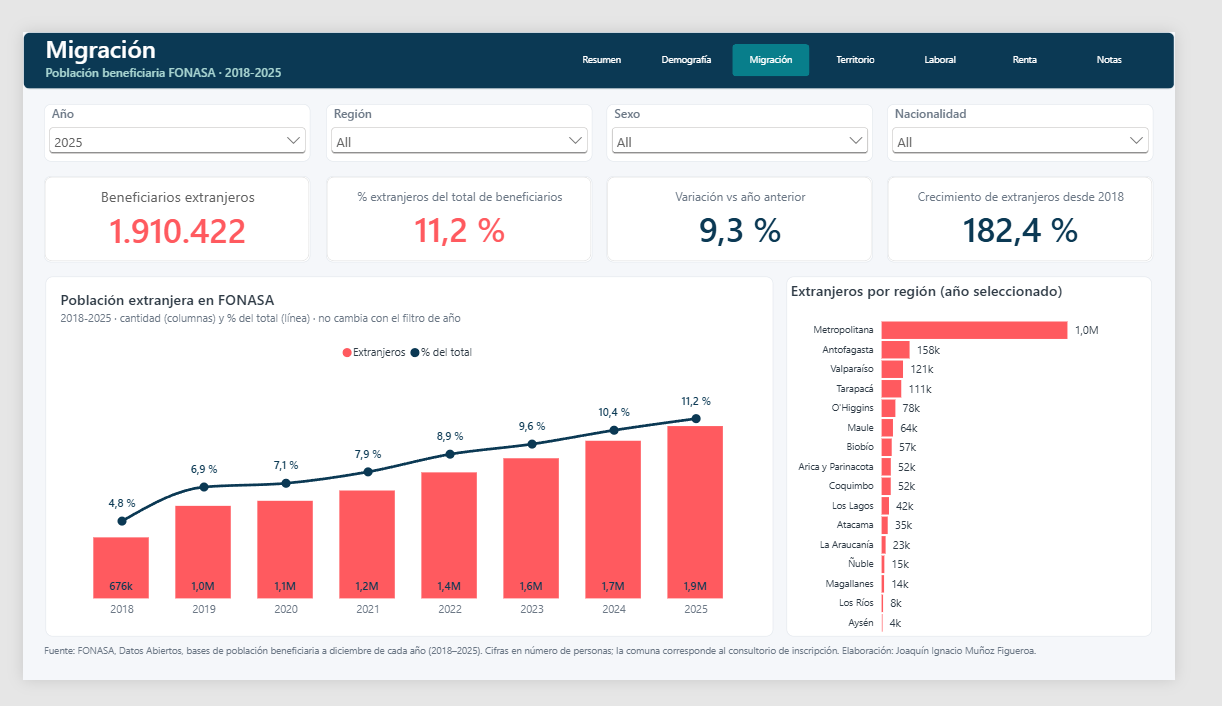

The dashboard page shown, as its layout file describes it:
{"tool":"powerbi","page":{"name":"Migración","canvas":[1280,720],"ordinal":2},"visuals":[{"type":"shape","box":[0,0,1280,64],"z":0},{"type":"textbox","title":"Resumen","box":[24.6,0,559.4,64.3],"z":1000},{"type":"pageNavigator","box":[600,14,656,36],"z":2000},{"type":"textbox","title":"Fuente: FONASA, Datos Abiertos, bases de población beneficiaria a diciembre de cada año (2018-2025). Nacionalidad según registro de FONASA; región del consultorio de inscripción. Elaboración: Joaquín ","box":[24,680,1232,28],"z":3000},{"type":"slicer","fields":{"Values":["Fonasa.anio"]},"box":[24,80,296,64],"z":4000},{"type":"slicer","fields":{"Values":["Fonasa.Región"]},"box":[336,80,296,64],"z":5000},{"type":"slicer","fields":{"Values":["Fonasa.sexo"]},"box":[648,80,296,64],"z":6000},{"type":"slicer","fields":{"Values":["Fonasa.nacionalidad"]},"box":[960,80,296,64],"z":7000},{"type":"cardVisual","fields":{"Data":["Measures Table (DAX).Beneficiarios_Extranjeros"]},"box":[24,160,296,96],"z":8000},{"type":"cardVisual","fields":{"Data":["Measures Table (DAX).%_Beneficiarios_Extranjeros"]},"box":[336,160,296,96],"z":9000},{"type":"cardVisual","fields":{"Data":["Measures Table (DAX).%_Variación_Extranjeros"]},"box":[648,160,296,96],"z":10000},{"type":"cardVisual","fields":{"Data":["Measures Table (DAX).Crecimiento_%_Extranjeros_Desde_2018"]},"box":[960,160,296,96],"z":11000},{"type":"lineClusteredColumnComboChart","title":"Población extranjera en FONASA","fields":{"Category":["Fonasa.anio"],"Y":["Measures Table (DAX).Extranjeros (gráfico)"],"Y2":["Measures Table (DAX).%_Beneficiarios_Extranjeros"]},"box":[24.2,272,808.6,400],"z":12000},{"type":"barChart","title":"Extranjeros por región (año seleccionado)","fields":{"Category":["Fonasa.Región"],"Y":["Measures Table (DAX).Extranjeros (gráfico)"]},"box":[848,272,406.3,400],"z":13000}]}

Visuals, with their boxes in screenshot pixels (x1, y1, x2, y2), scaled from the page's 1280x720 canvas onto the 1222x706 screenshot:
shape: locate(0, 0, 1221, 63)
"Resumen" textbox: locate(23, 0, 558, 63)
pageNavigator: locate(573, 14, 1199, 49)
"Fuente: FONASA, Datos Abiertos, bases de población beneficiaria a diciembre de cada año (2018-2025). Nacionalidad según registro de FONASA; región del consultorio de inscripción. Elaboración: Joaquín " textbox: locate(23, 667, 1199, 694)
slicer - Fonasa.anio: locate(23, 78, 306, 141)
slicer - Fonasa.Región: locate(321, 78, 603, 141)
slicer - Fonasa.sexo: locate(619, 78, 901, 141)
slicer - Fonasa.nacionalidad: locate(916, 78, 1199, 141)
cardVisual - Measures Table (DAX).Beneficiarios_Extranjeros: locate(23, 157, 306, 251)
cardVisual - Measures Table (DAX).%_Beneficiarios_Extranjeros: locate(321, 157, 603, 251)
cardVisual - Measures Table (DAX).%_Variación_Extranjeros: locate(619, 157, 901, 251)
cardVisual - Measures Table (DAX).Crecimiento_%_Extranjeros_Desde_2018: locate(916, 157, 1199, 251)
"Población extranjera en FONASA" lineClusteredColumnComboChart: locate(23, 267, 795, 659)
"Extranjeros por región (año seleccionado)" barChart: locate(810, 267, 1197, 659)
